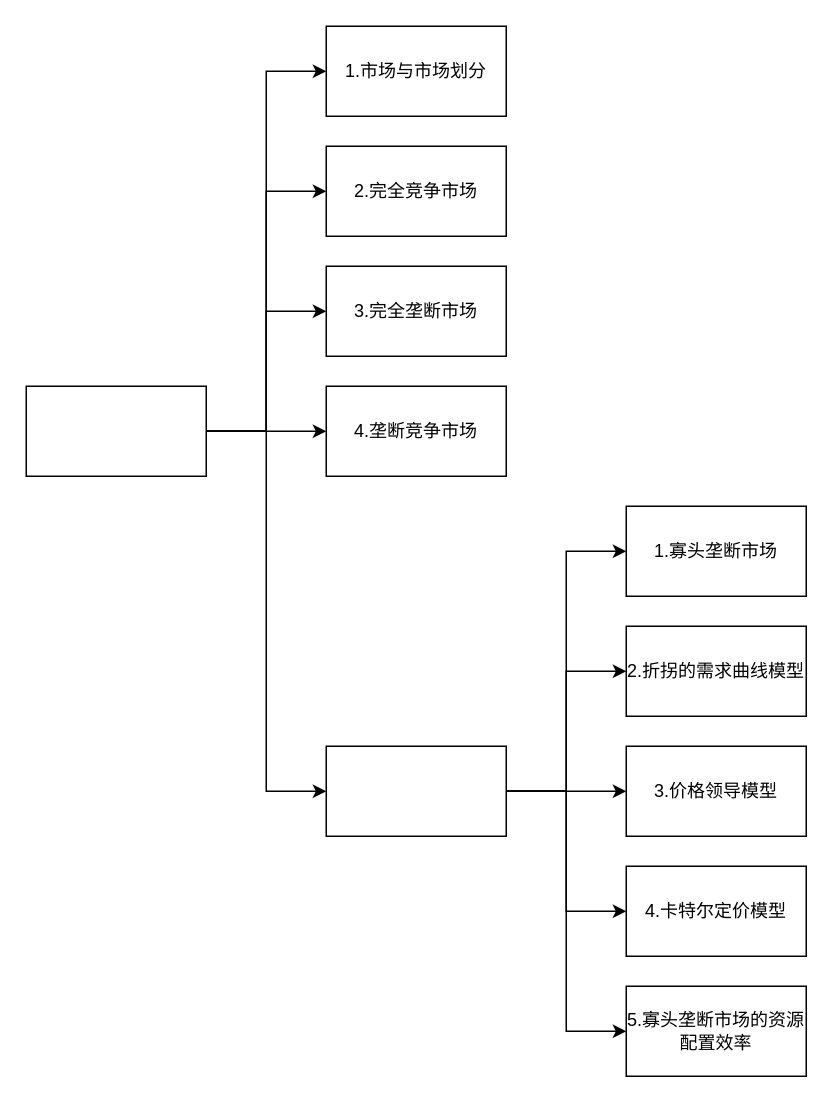
Image size: 833x1103. Some labels were removed from this diagram. Here are the shapes that lost their labels. From the top down, the box of each, then its label:
(25, 385, 206, 476): 市场结构理论
(325, 745, 506, 836): 5.寡头垄断市场
